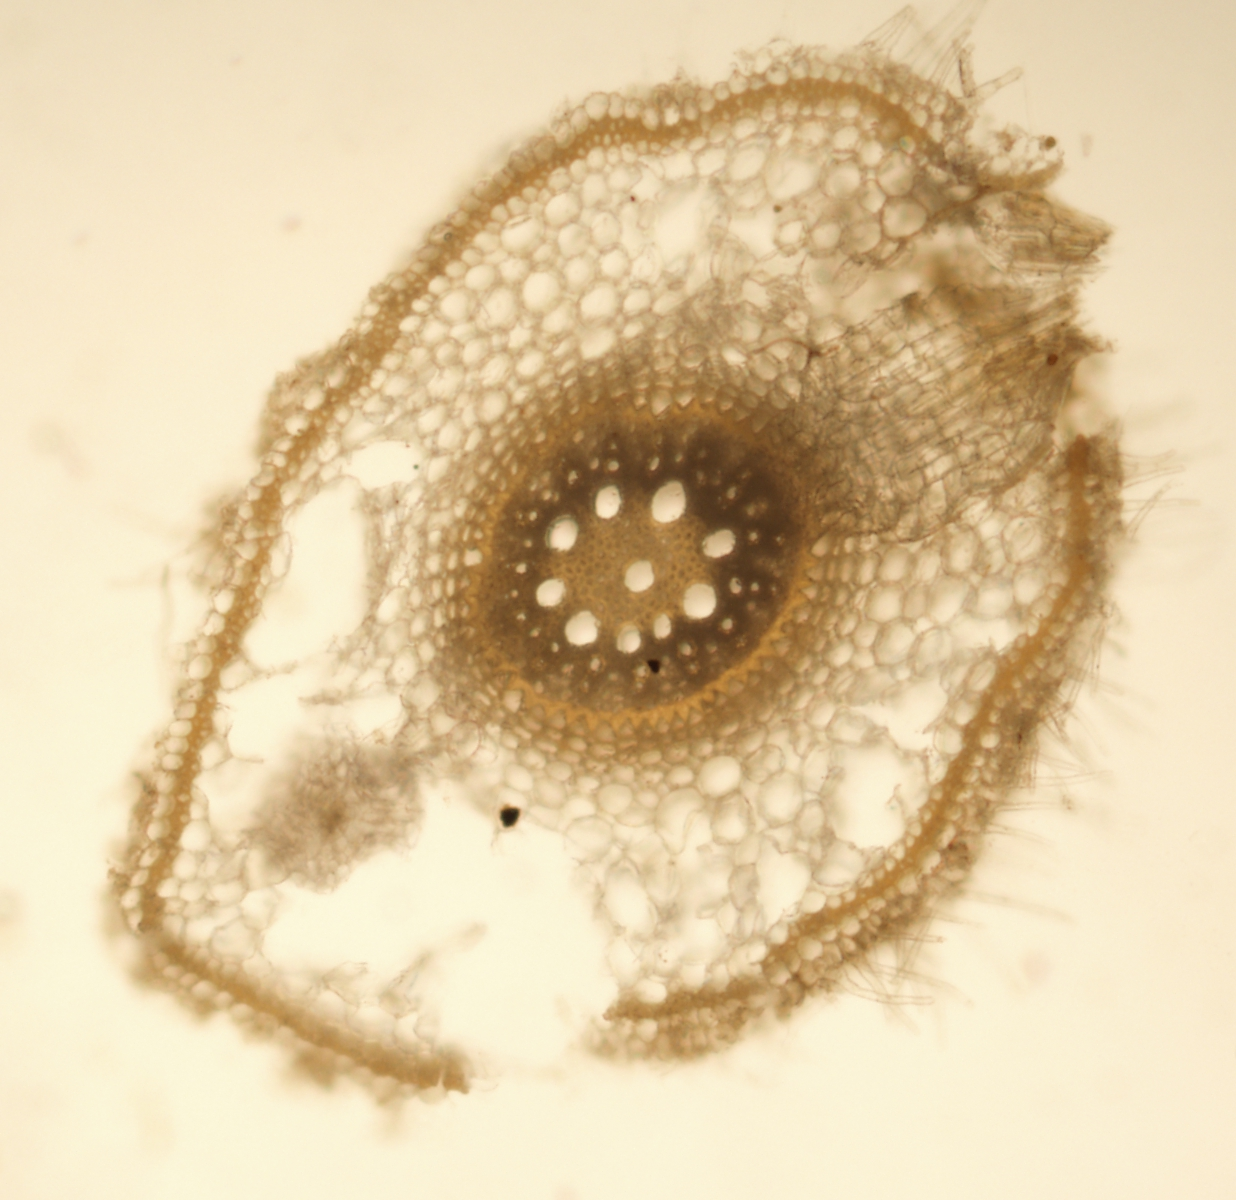lm: (651, 480, 686, 523), (545, 514, 578, 553), (565, 610, 600, 645), (683, 583, 716, 619), (624, 560, 656, 592), (702, 528, 736, 557), (595, 485, 620, 519), (536, 578, 566, 607), (616, 623, 641, 654), (654, 614, 671, 639)
